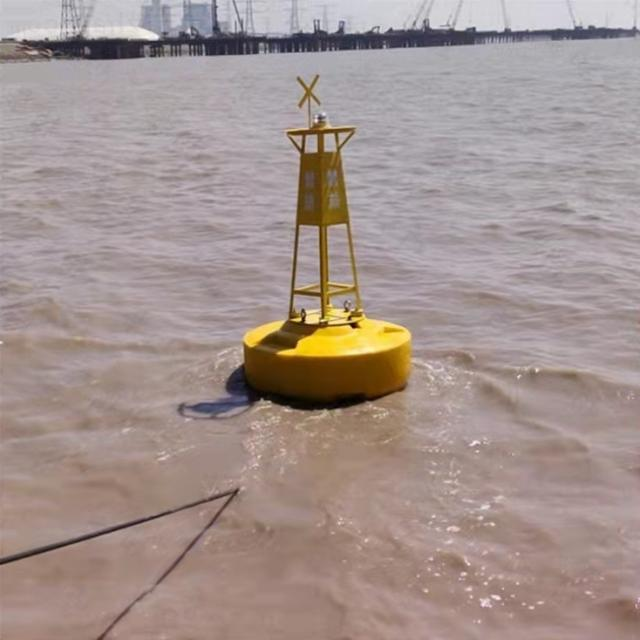buoy: (236, 66, 414, 396)
